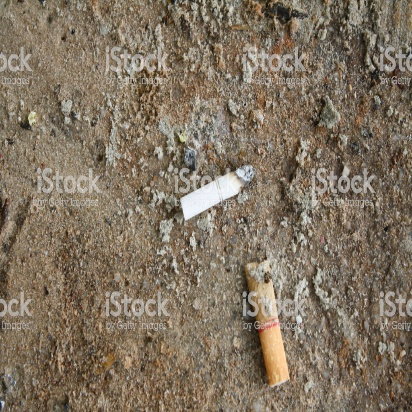cigarette: (234, 254, 295, 395), (167, 163, 266, 224)
